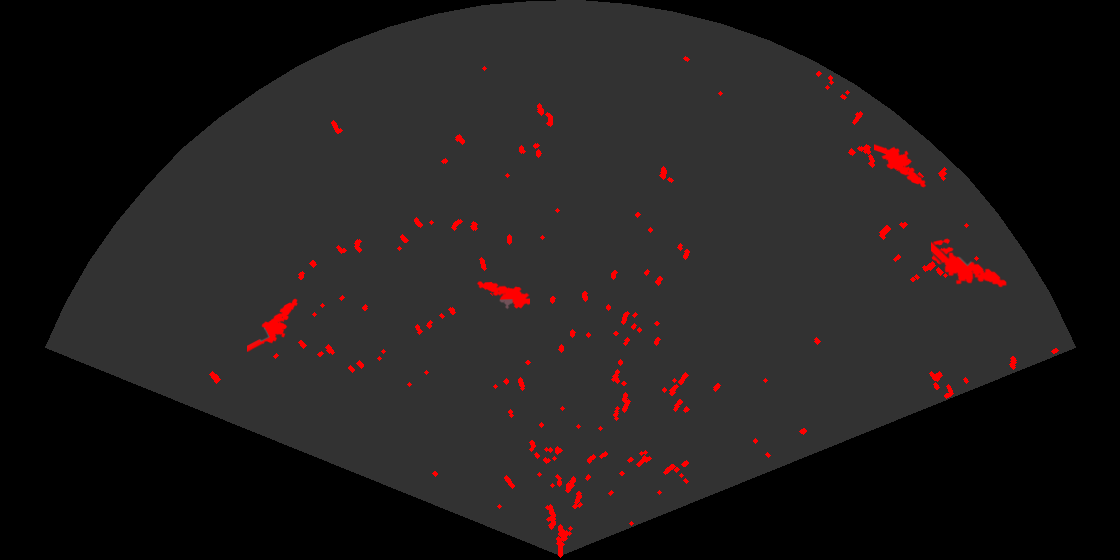ball: (930, 237, 956, 266)
frogman: (931, 240, 1009, 289), (247, 297, 300, 352), (874, 142, 928, 189), (475, 280, 530, 310)
